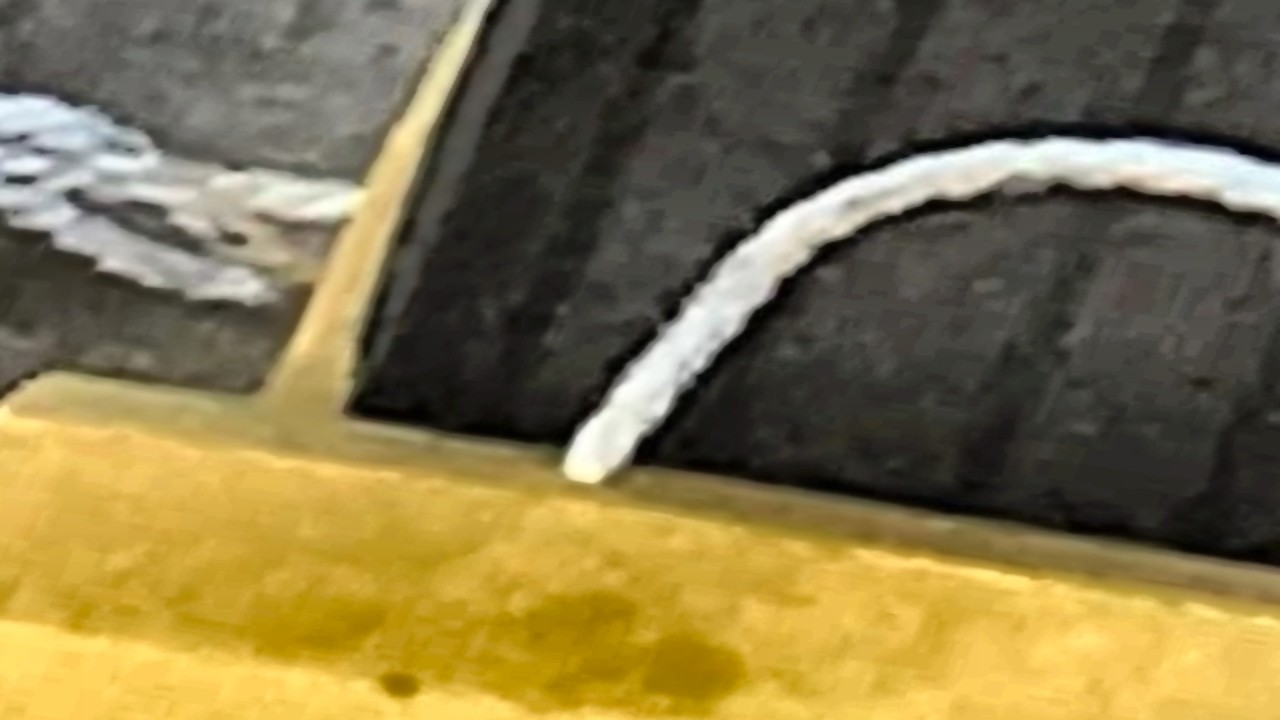chock: (121, 0, 1280, 720), (0, 362, 1280, 720)
